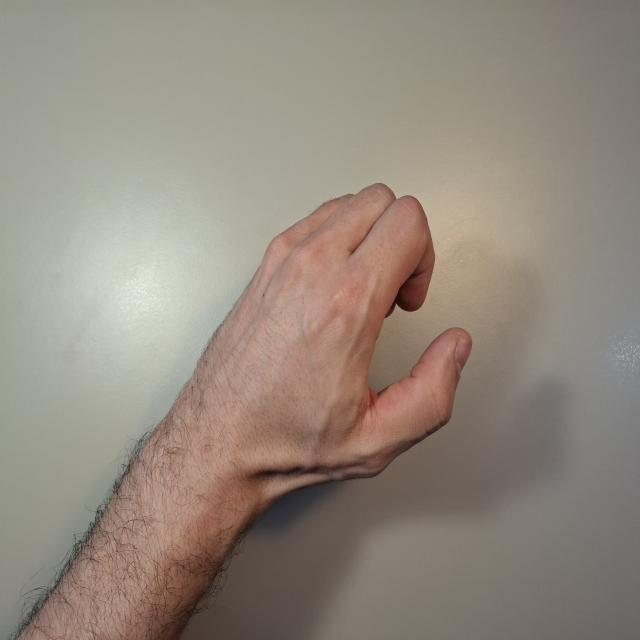glove_off: (213, 180, 475, 504)
